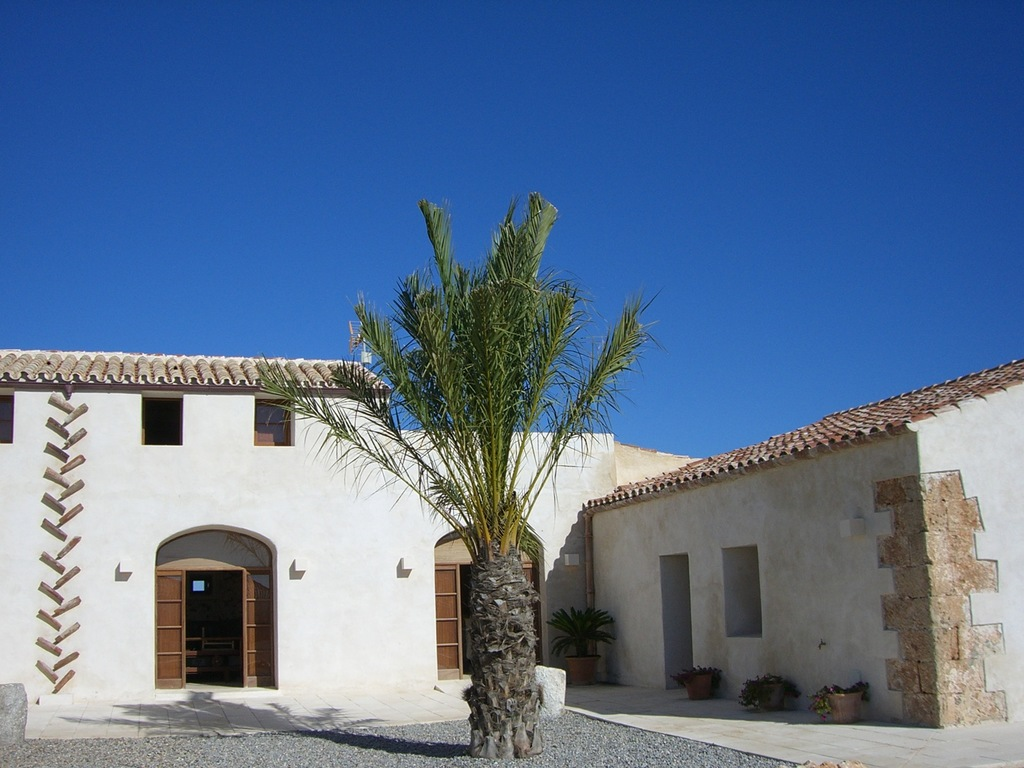Tree: (250, 188, 675, 763)
